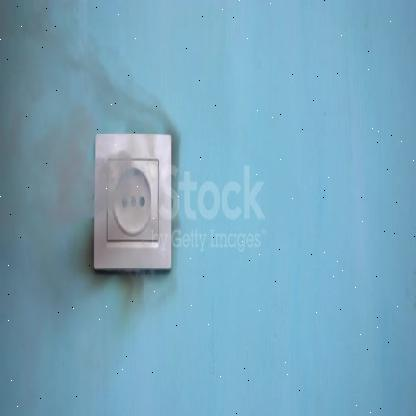smoke: (0, 0, 180, 331)
